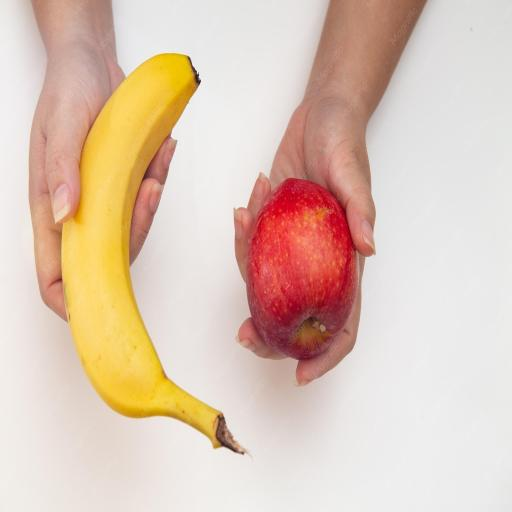apple: (247, 179, 358, 359)
banana: (62, 54, 244, 452)
